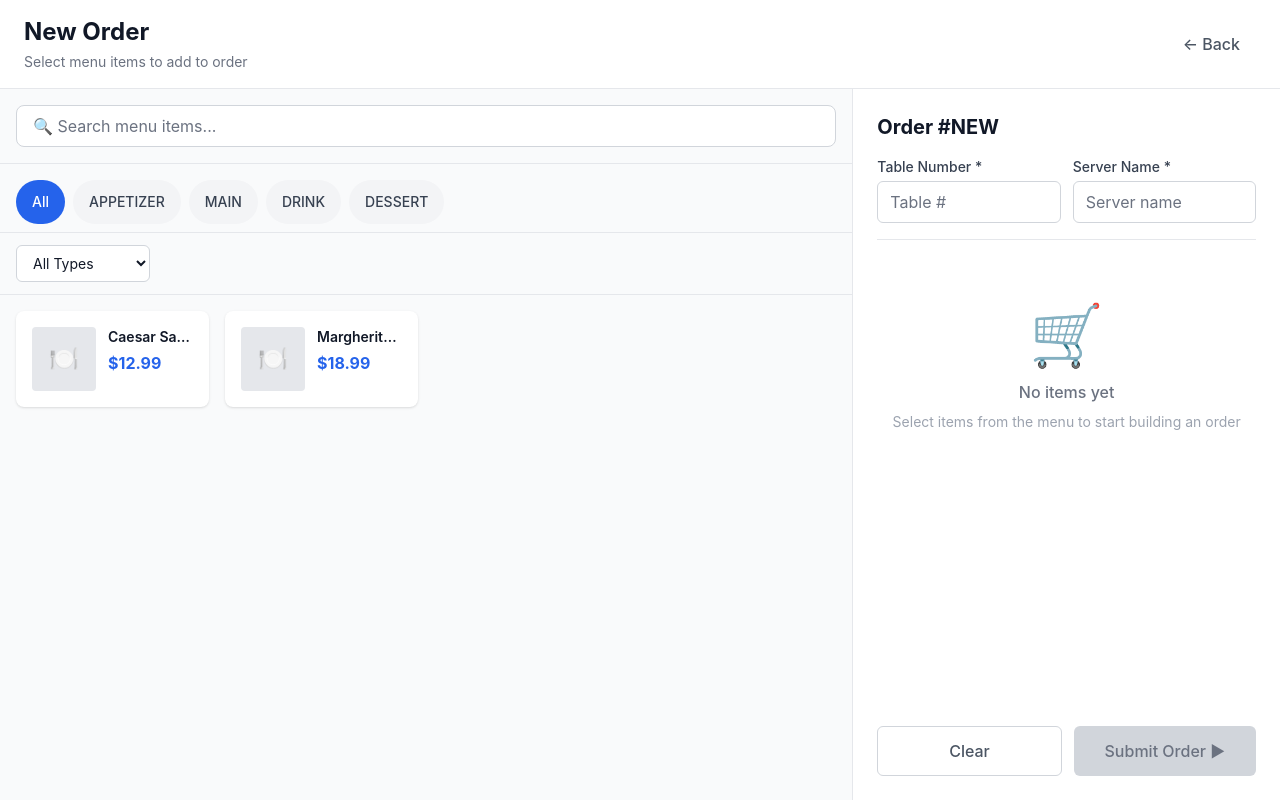
Test: NewOrderPage › increments quantity when same item clicked multiple times
Note: Click once
Click the button "🍽️ Caesar Salad $12.99" at (113, 359), box [16,311,209,407]
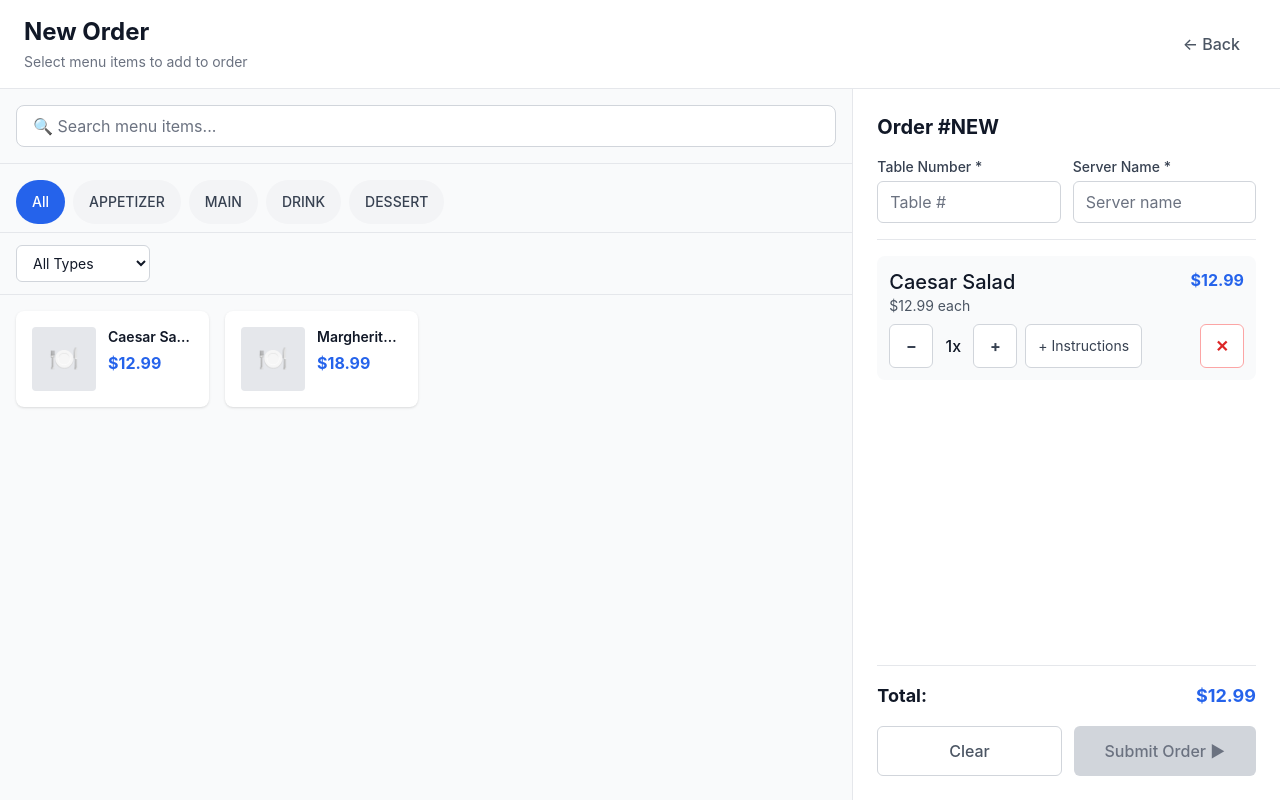
Expected: the text "1x" is shown, [946,336,961,356]
Note: Click again
Click the button "🍽️ Caesar Salad $12.99" at (113, 359), box [16,311,209,407]
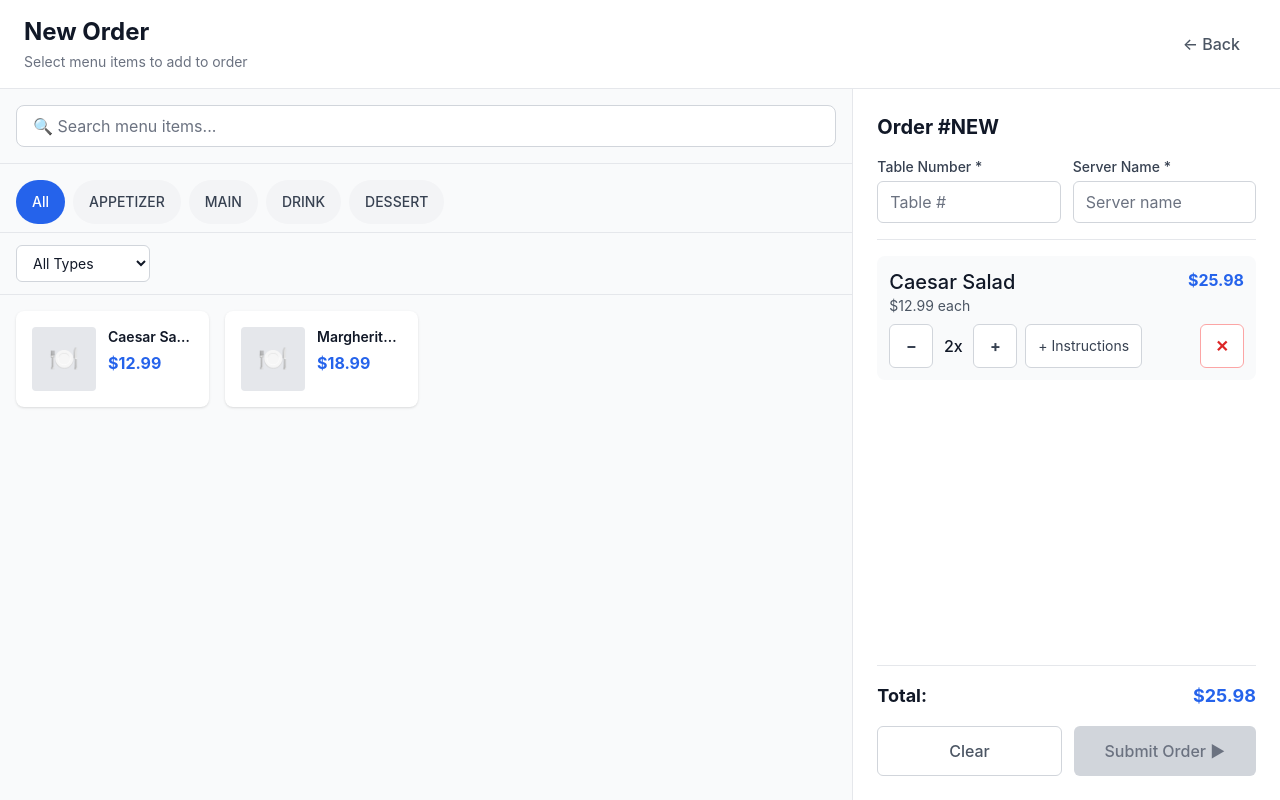
Expected: the text "2x" is shown, [944,336,963,356]
